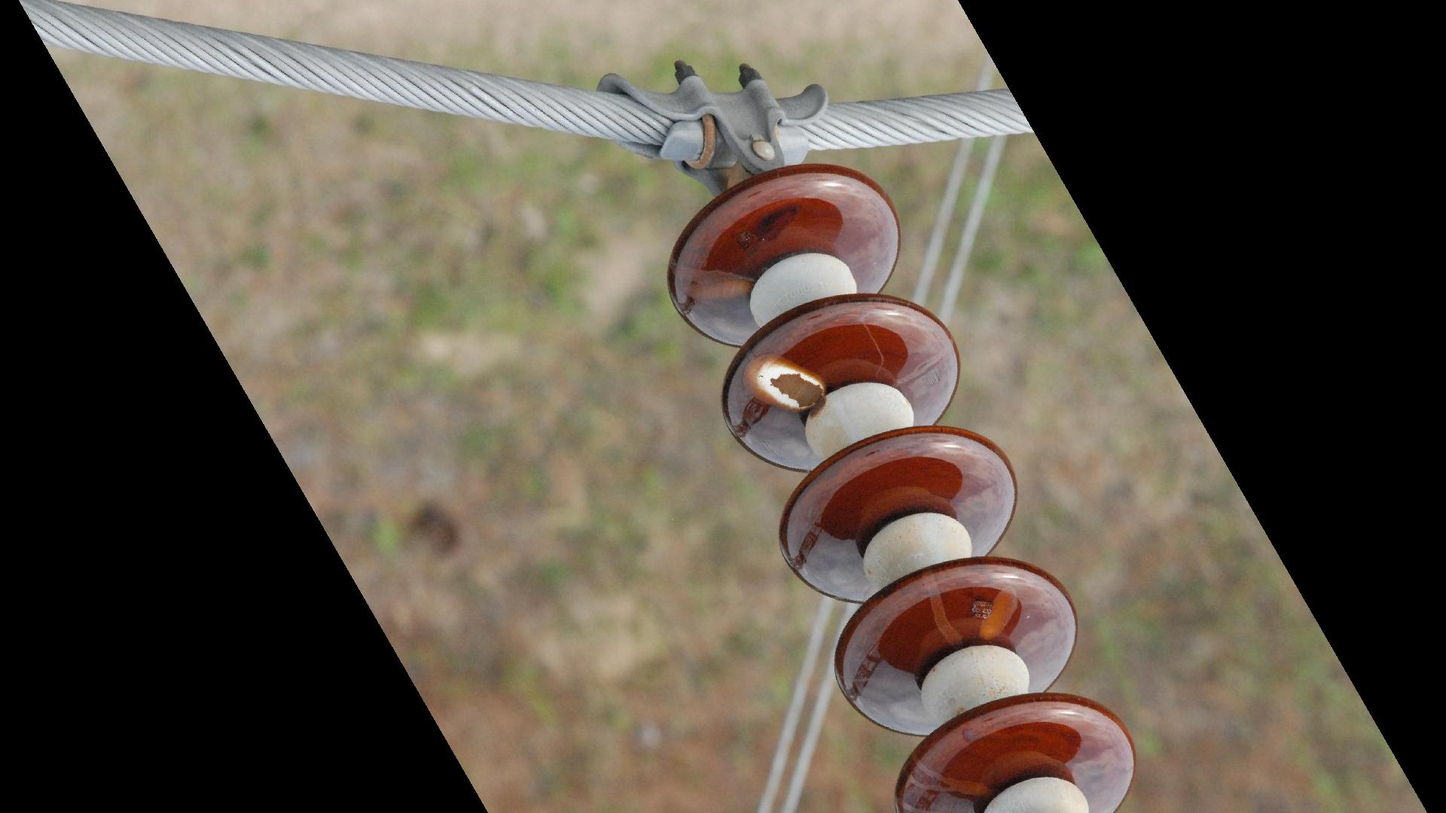insulator: (659, 157, 1141, 813)
insulator_flashover: (747, 353, 829, 419), (671, 261, 754, 304), (975, 580, 1023, 645)
